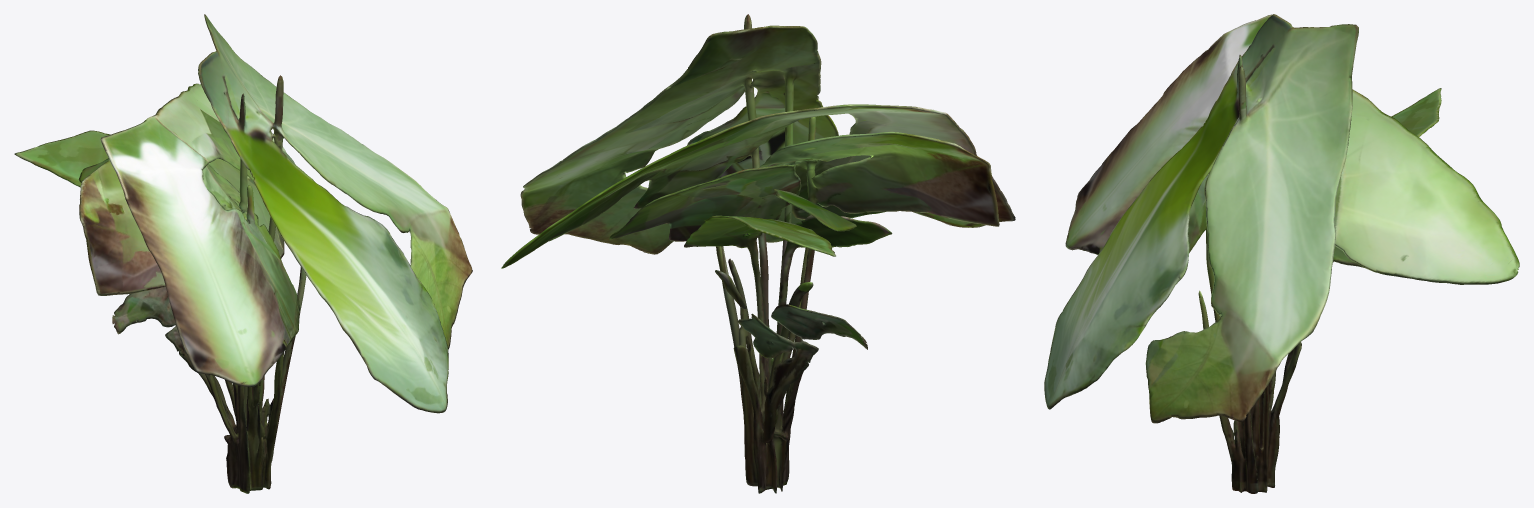
File: herb0003gltf.gltf
The picture shows the model from 3 angles, left to right: view 1: azimuth 30°, elevation 25°; view 2: azimuth 150°, elevation 25°; view 3: azimuth 270°, elevation 25°; orthographic projection. The views are drawn at different scales.
Parts seen in each view (by area): view 1: Mesh_0.006; view 2: Mesh_0.006; view 3: Mesh_0.006.
Part boxes in pixels (left/top/right/bottom): Mesh_0.006: left=14, top=14, right=472, bottom=493; Mesh_0.006: left=501, top=14, right=1015, bottom=493; Mesh_0.006: left=1044, top=14, right=1519, bottom=493.
Size of the model in its own units: 1.92 by 2 by 1.86.
1 material, 1 textured.
